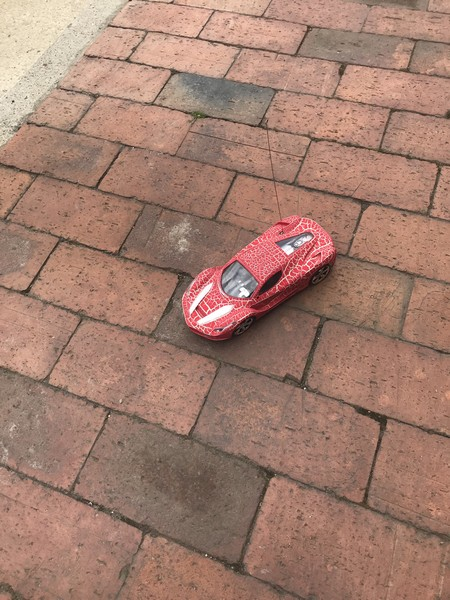RC: (179, 215, 338, 347)
